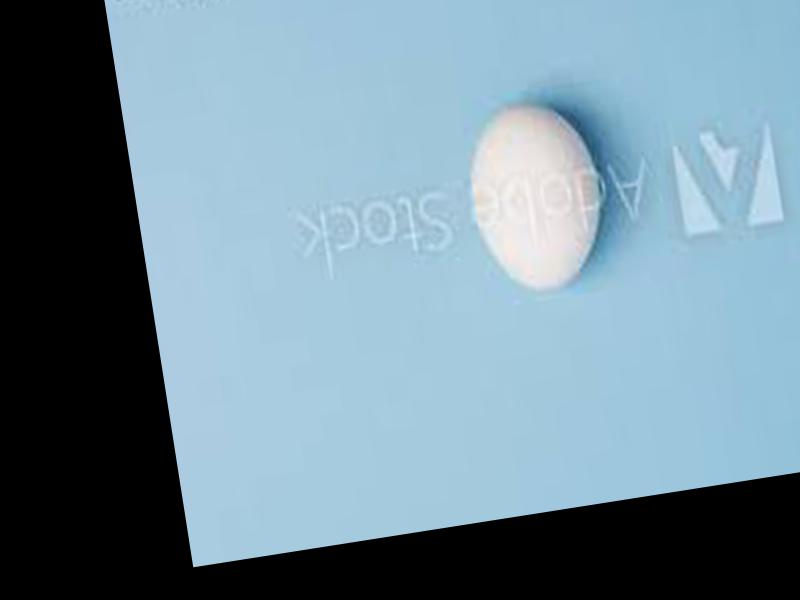Eggs: (460, 97, 612, 294)
